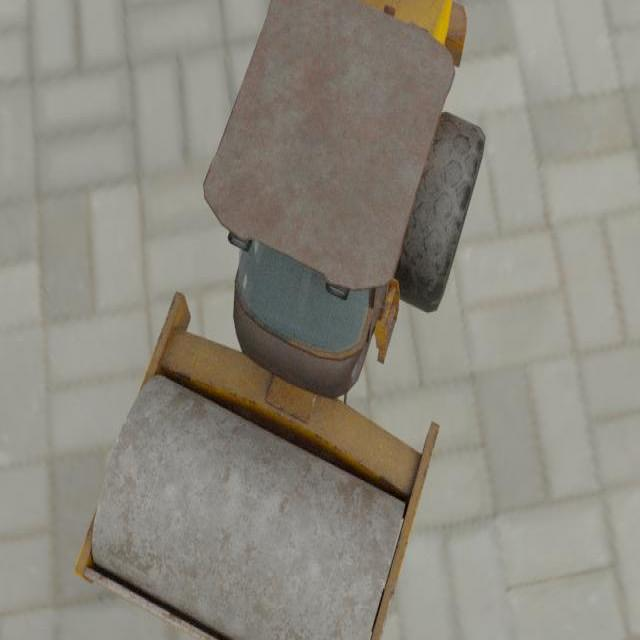Roller: (73, 0, 486, 640)
